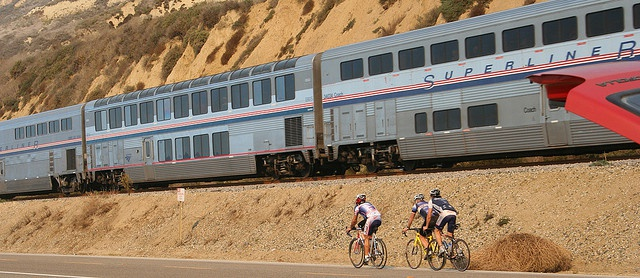non-vehicle: (426, 222, 470, 272), (346, 226, 387, 269), (401, 227, 435, 269)
